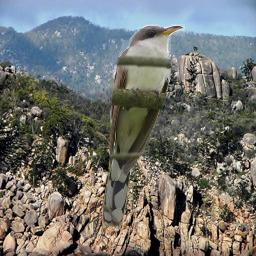Cuckoo: (102, 24, 185, 228)
